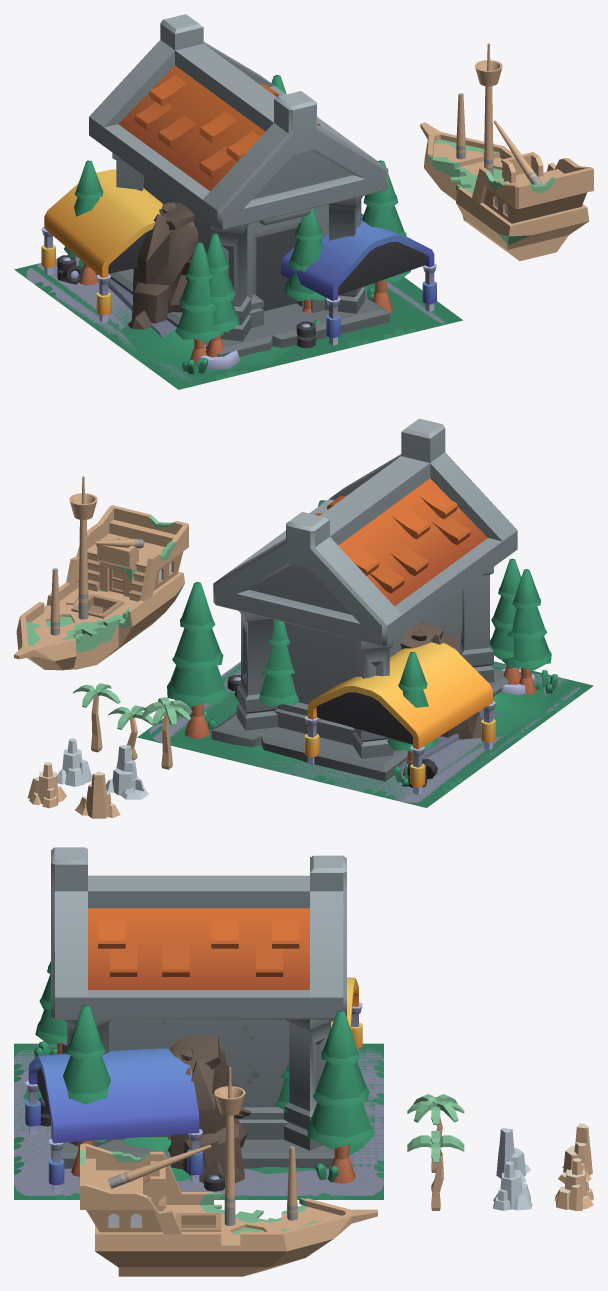
Rendered from props.glb.
3 renders of one model, top to bottom at view 1: azimuth 30°, elevation 25°; view 2: azimuth 150°, elevation 25°; view 3: azimuth 270°, elevation 25°, orthographic. The views are drawn at different scales.
Parts seen in each view (by area): view 1: crypt, decoration-tents, decoration-forest, ship_wreck_8angles, rubble_large; view 2: crypt, decoration-forest, decoration-tents, ship_wreck_8angles, rubble_large, formationLarge_stone, formationLarge_rock, formation_rock, formation_stone, Group 154, Group 30; view 3: crypt, decoration-tents, ship_wreck_8angles, decoration-forest, rubble_half, rubble_large, formation_rock, formation_stone, Group 154, formationLarge_rock, formationLarge_stone, Group 30.
Part boxes in pixels (box(x1,y1,x2,y2)): crypt: box(89, 14, 389, 357); decoration-tents: box(20, 169, 459, 388); decoration-forest: box(14, 75, 462, 389); ship_wreck_8angles: box(420, 43, 593, 260); rubble_large: box(128, 202, 198, 329); crypt: box(211, 418, 517, 781); decoration-forest: box(139, 500, 592, 806); decoration-tents: box(137, 558, 593, 807); ship_wreck_8angles: box(14, 476, 188, 670); rubble_large: box(400, 621, 483, 739); formationLarge_stone: box(106, 745, 148, 799); formationLarge_rock: box(75, 771, 120, 818); formation_rock: box(27, 762, 66, 808); formation_stone: box(56, 738, 92, 786); Group 154: box(141, 697, 192, 725); Group 30: box(73, 683, 120, 707); crypt: box(51, 847, 346, 1168); decoration-tents: box(14, 961, 383, 1199); ship_wreck_8angles: box(80, 1067, 377, 1276); decoration-forest: box(14, 1005, 383, 1199); rubble_half: box(169, 1034, 250, 1183); rubble_large: box(167, 1067, 244, 1183); formation_rock: box(554, 1158, 593, 1210); formation_stone: box(493, 1161, 532, 1210); Group 154: box(407, 1094, 464, 1124); formationLarge_rock: box(558, 1123, 592, 1183); formationLarge_stone: box(496, 1128, 530, 1182); Group 30: box(407, 1135, 464, 1162).
Bounding box in the file's own units: 15.68 × 9.31 × 15.67.
26 materials, 5 textured.
